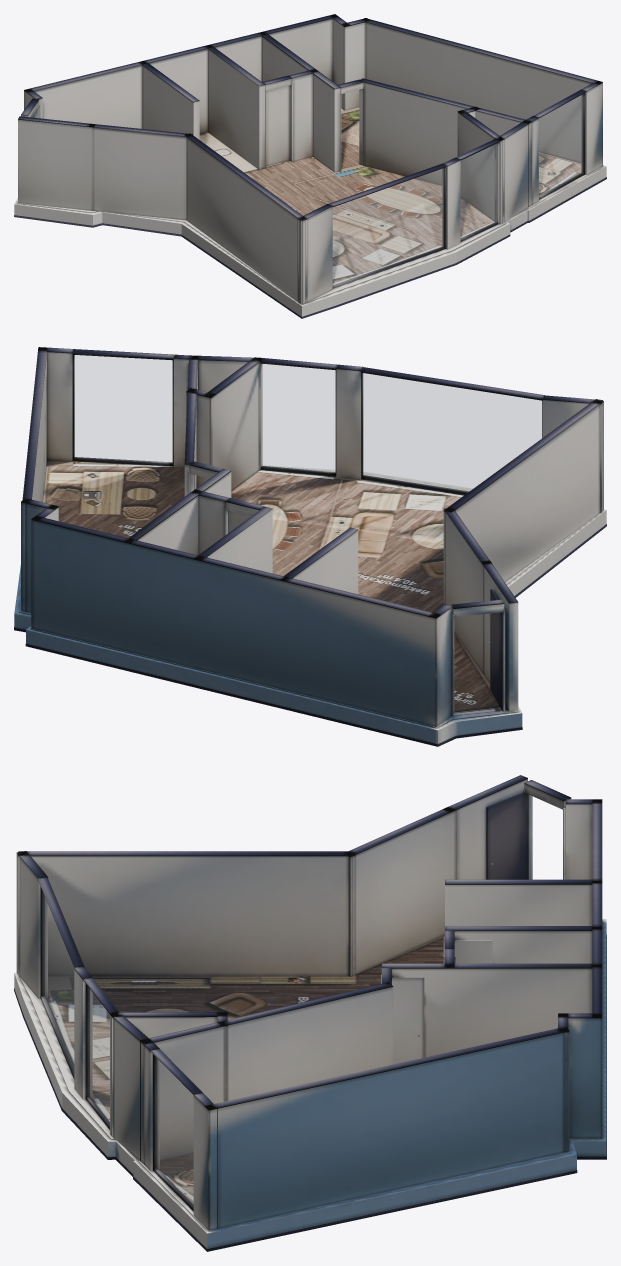
The picture shows the model from 3 angles, top to bottom: view 1: azimuth 30°, elevation 25°; view 2: azimuth 150°, elevation 25°; view 3: azimuth 270°, elevation 25°; orthographic projection. The views are drawn at different scales.
Parts seen in each view (by area): view 1: plan, glass0_m, glass2_m, glass1_m; view 2: plan, glass0_m, glass2_m, glass1_m; view 3: plan, glass2_m, glass0_m, glass1_m.
Part boxes in pixels (bbox=[...]): plan: bbox=[14, 14, 606, 318]; glass0_m: bbox=[333, 168, 443, 285]; glass2_m: bbox=[539, 94, 582, 196]; glass1_m: bbox=[461, 144, 497, 238]; plan: bbox=[14, 347, 606, 746]; glass0_m: bbox=[363, 373, 541, 491]; glass2_m: bbox=[74, 355, 172, 462]; glass1_m: bbox=[262, 364, 335, 472]; plan: bbox=[14, 775, 606, 1251]; glass2_m: bbox=[155, 1057, 193, 1205]; glass0_m: bbox=[43, 894, 73, 1070]; glass1_m: bbox=[88, 987, 109, 1124].
Bounding box in the file's own units: 13.66 × 2.62 × 10.08.
2 materials, 1 textured.
